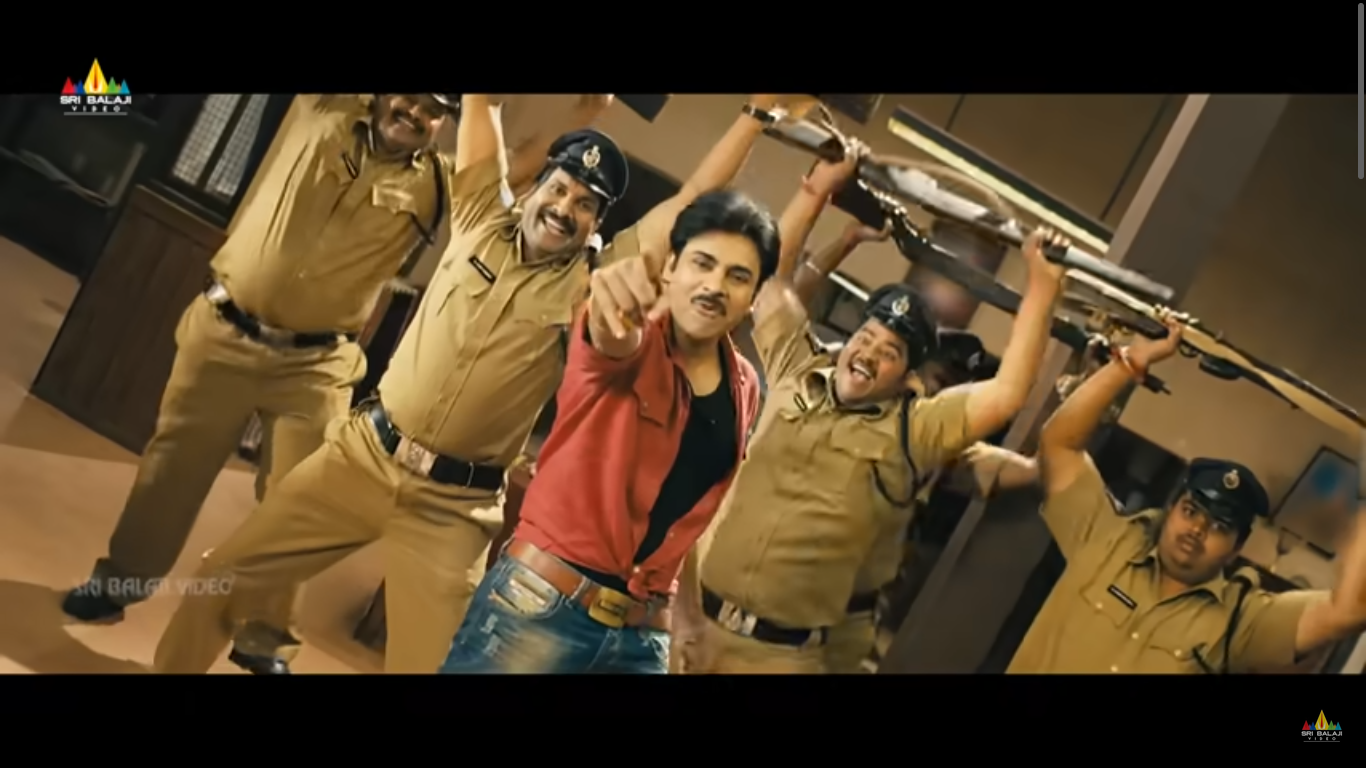gun: (760, 96, 1175, 303), (814, 174, 1170, 399), (1059, 266, 1366, 451)
p_w_gun: (691, 113, 1173, 685), (1005, 262, 1366, 678)
p_wo_gun_acting_like_shooting: (449, 190, 777, 674)
p_wo_gun_not_carrying_normal_pose: (145, 78, 788, 682), (64, 92, 461, 677)
